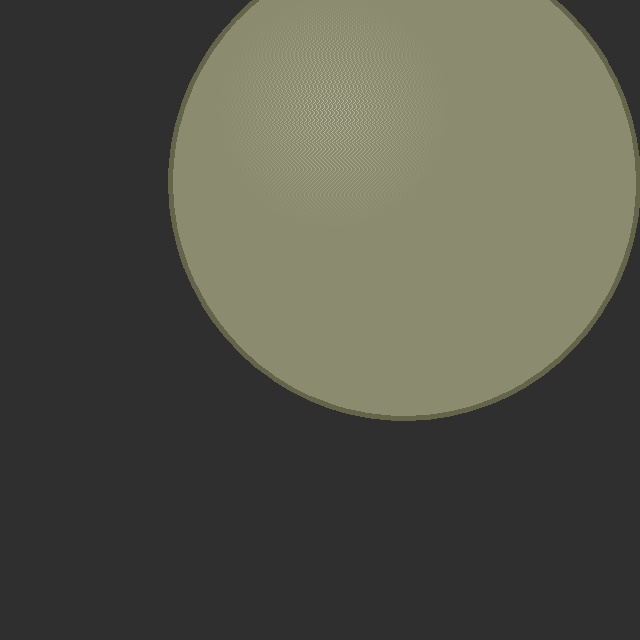lens: (170, 0, 638, 418)
